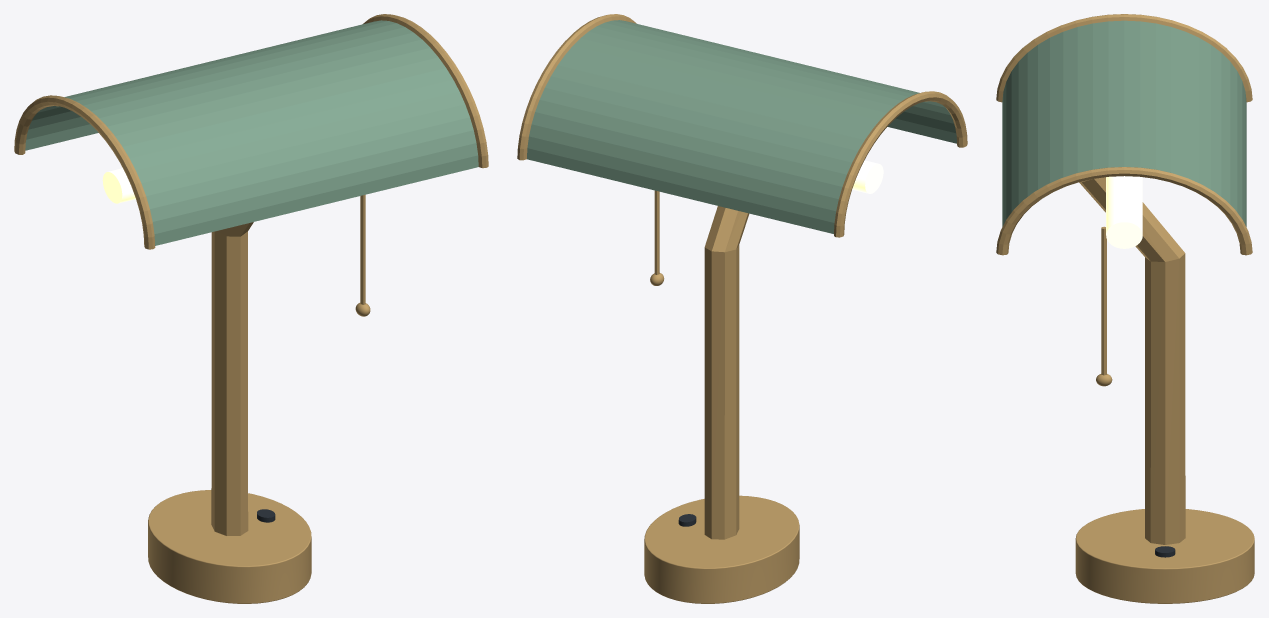
Rendered from apartment-lamp-banker.glb.
3 renders of one model, left to right at view 1: azimuth 30°, elevation 25°; view 2: azimuth 150°, elevation 25°; view 3: azimuth 270°, elevation 25°, orthographic. The views are drawn at different scales.
Visible parts, largest first — view 1: catalog_surface_RealismUV, catalog_surface_UVMap; view 2: catalog_surface_RealismUV, catalog_surface_UVMap; view 3: catalog_surface_RealismUV, catalog_surface_UVMap.
Boxes of the visible parts, x1=… form: catalog_surface_RealismUV: x1=14, y1=14, x2=488, y2=603; catalog_surface_UVMap: x1=102, y1=168, x2=135, y2=203; catalog_surface_RealismUV: x1=517, y1=14, x2=967, y2=603; catalog_surface_UVMap: x1=852, y1=160, x2=883, y2=193; catalog_surface_RealismUV: x1=996, y1=14, x2=1254, y2=603; catalog_surface_UVMap: x1=1106, y1=176, x2=1142, y2=248.
Bounding box in the file's own units: 0.23 × 0.33 × 0.16.
